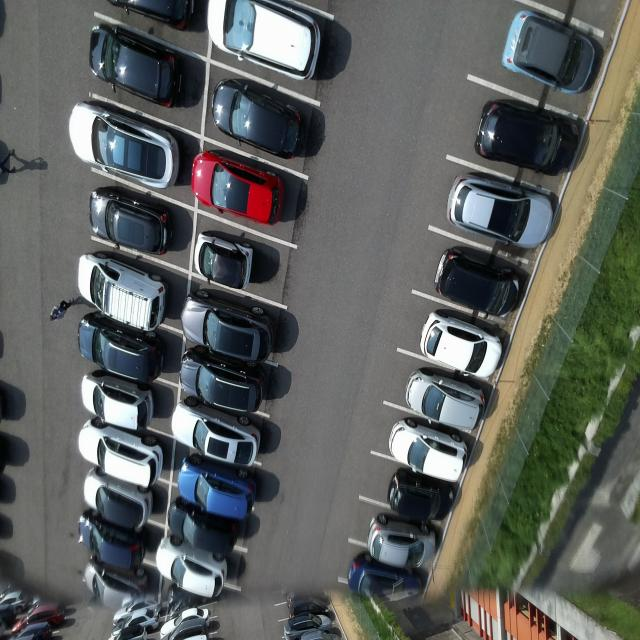car: (68, 98, 185, 191), (206, 1, 332, 85), (88, 15, 191, 112), (474, 91, 581, 178), (445, 172, 556, 254), (503, 6, 601, 96), (190, 146, 295, 230), (211, 78, 313, 163), (180, 293, 282, 369), (75, 251, 171, 330), (172, 398, 264, 474), (89, 186, 178, 262), (77, 415, 166, 490), (180, 344, 276, 413), (435, 244, 521, 321), (78, 313, 170, 384), (419, 311, 506, 382), (177, 449, 258, 525), (386, 417, 472, 485), (158, 533, 238, 605), (406, 369, 490, 432), (165, 493, 245, 559), (80, 370, 157, 432), (365, 512, 441, 573), (85, 466, 158, 529), (387, 467, 460, 529), (192, 231, 263, 294), (75, 512, 154, 566)
